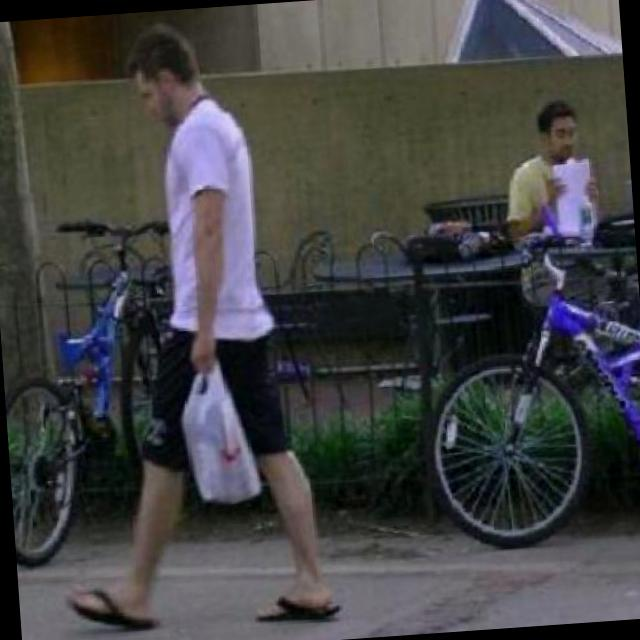Person: (21, 15, 346, 640), (491, 99, 607, 246)
